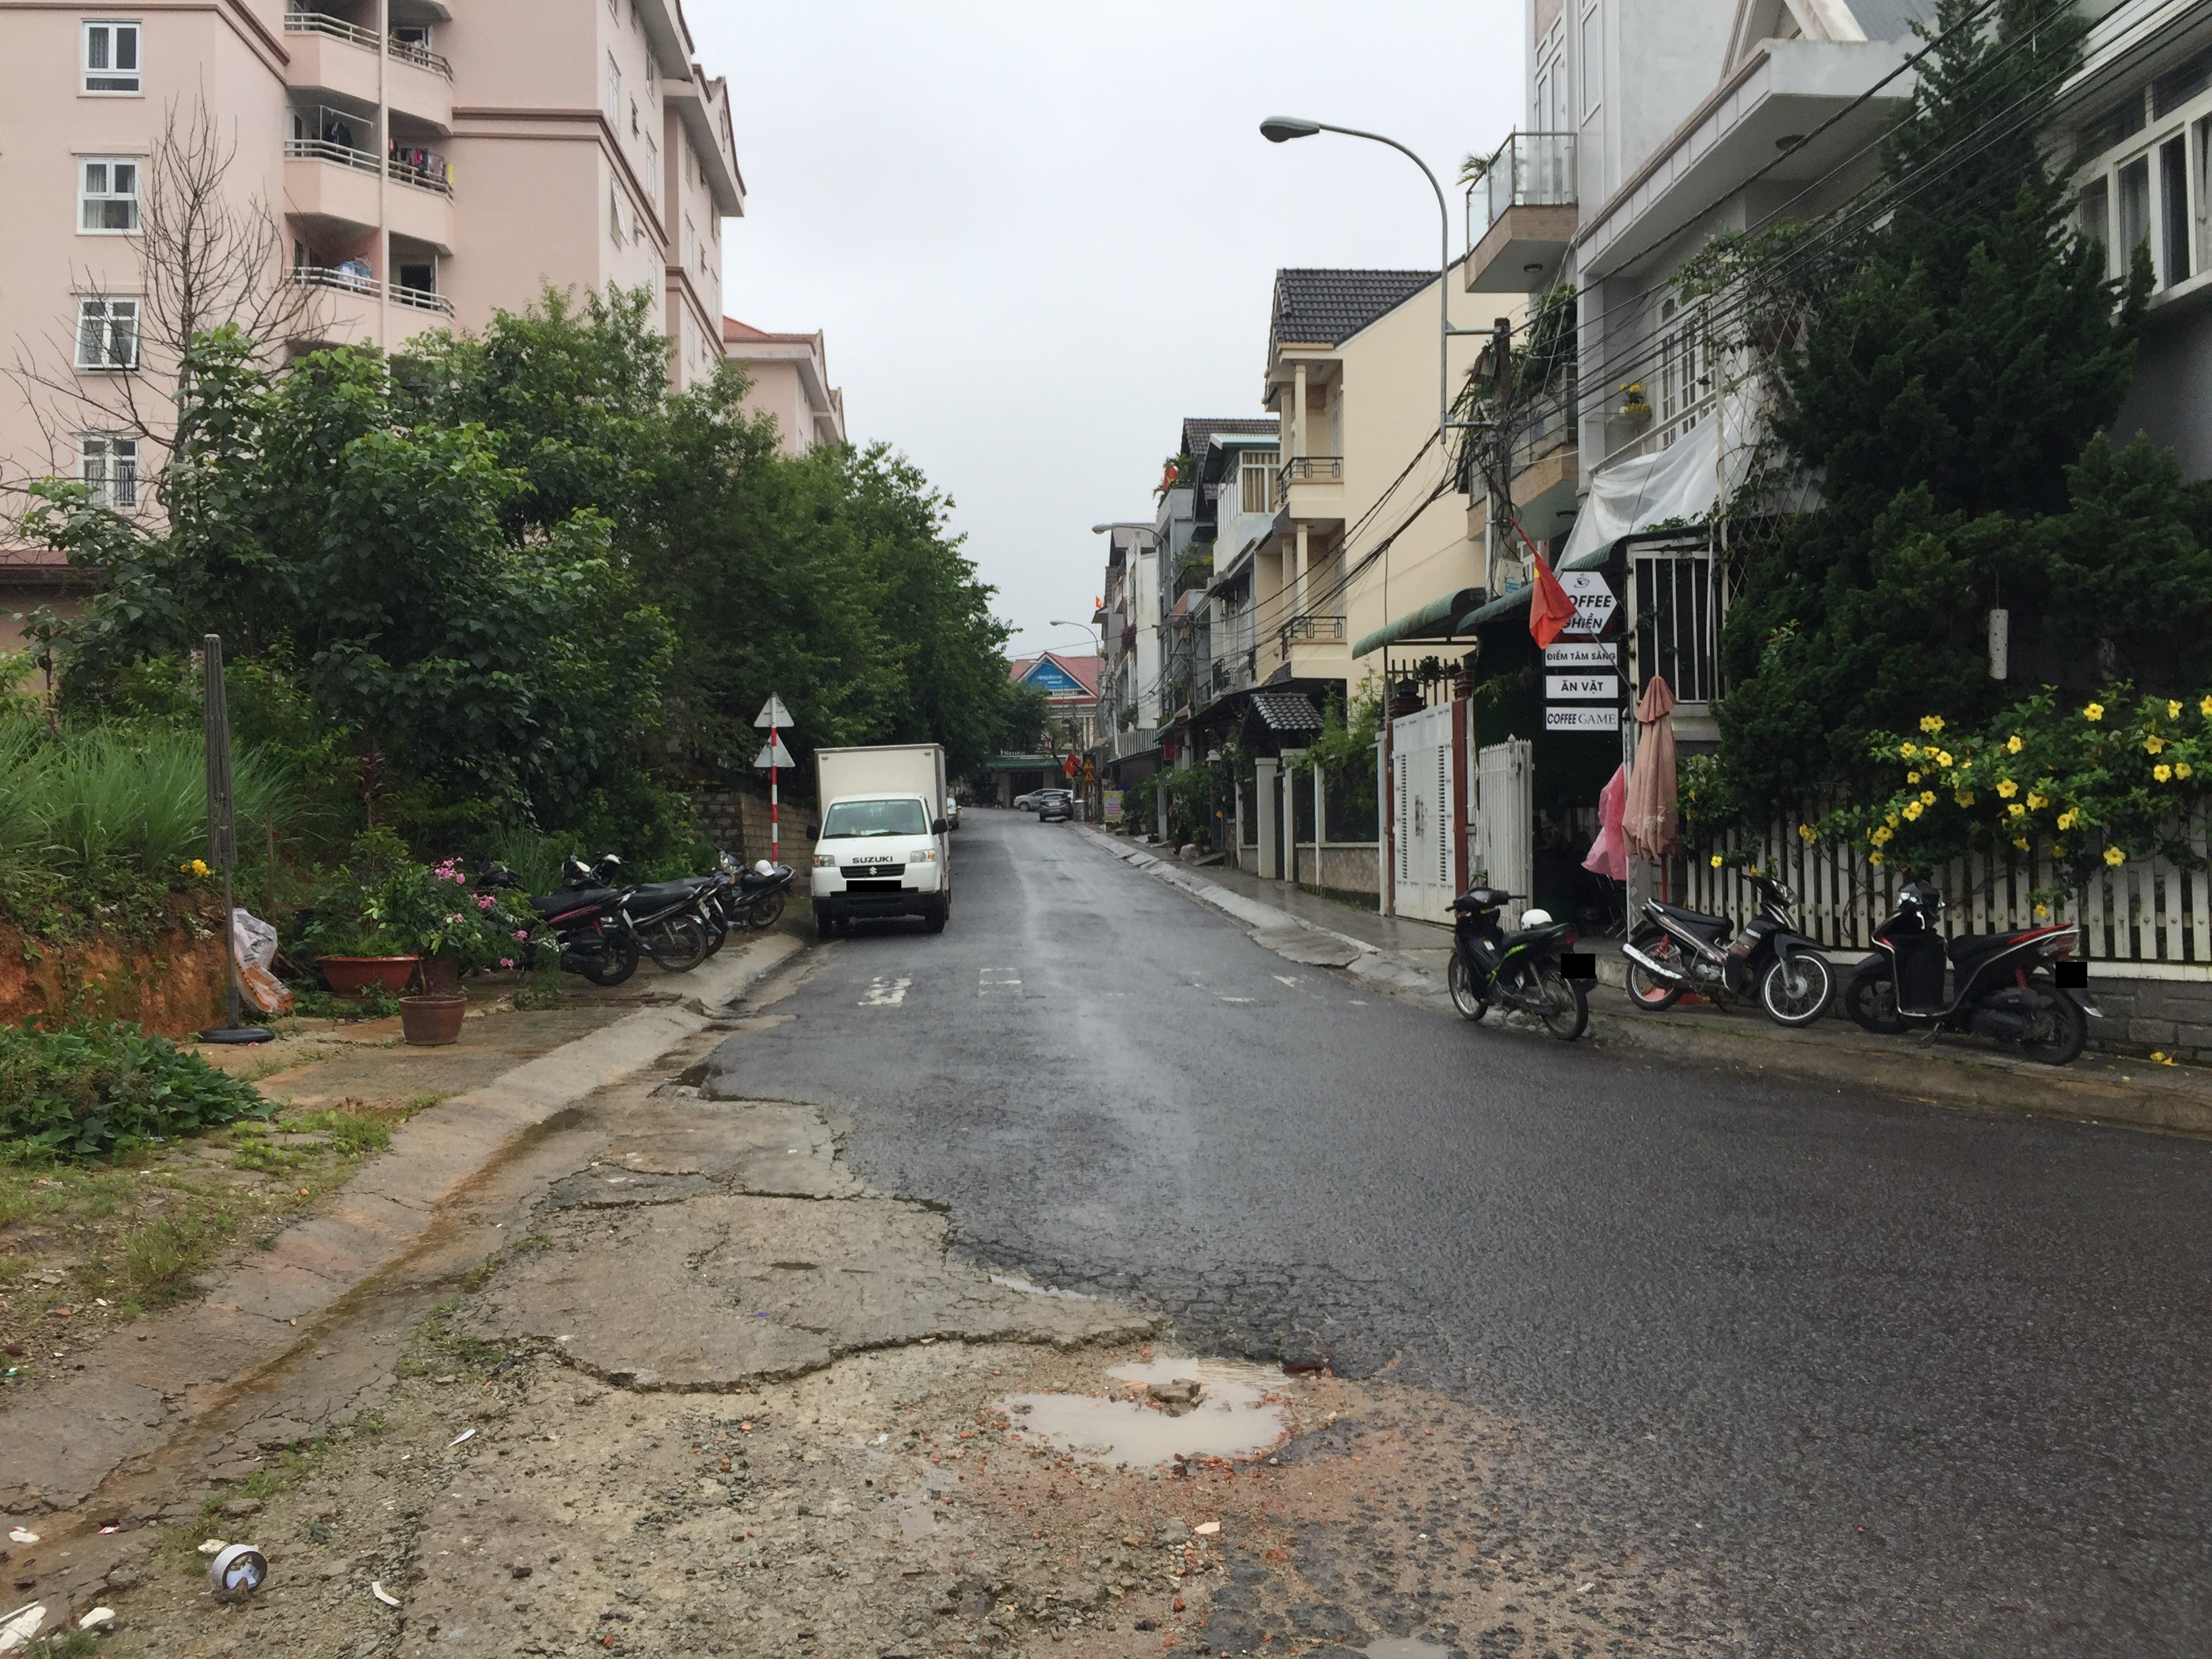hole: (979, 1326, 1325, 1476), (951, 1244, 1174, 1304)
